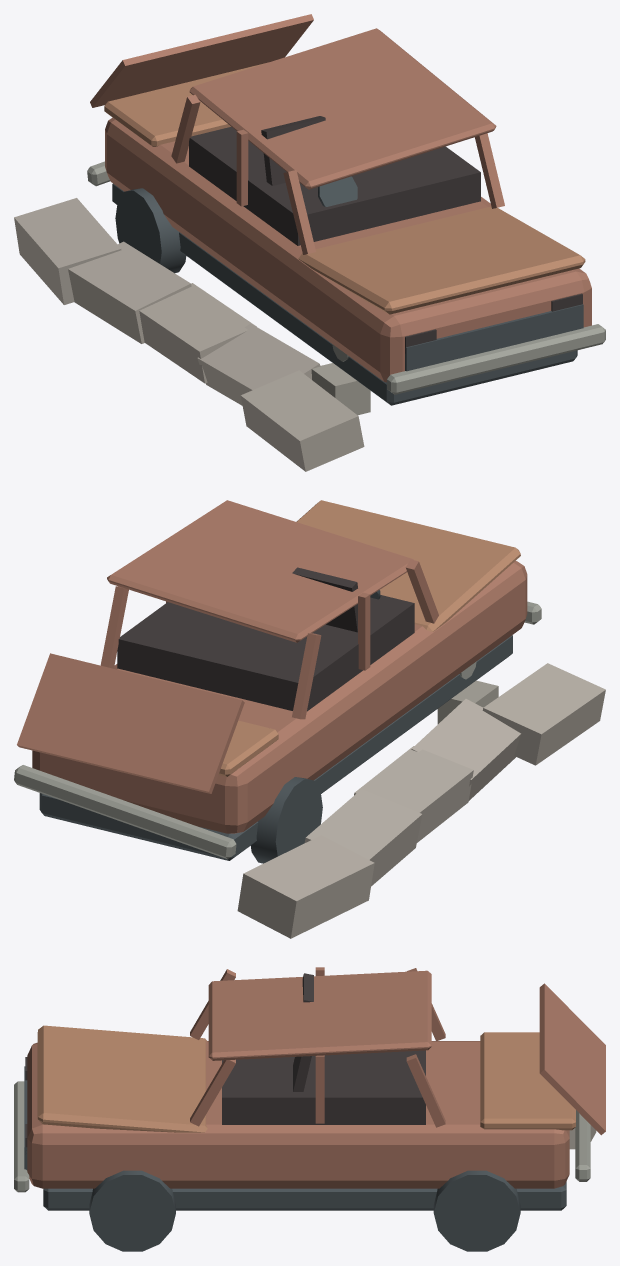
File: waste_car_wreck.glb
3 renders of one model, top to bottom at view 1: azimuth 30°, elevation 25°; view 2: azimuth 150°, elevation 25°; view 3: azimuth 270°, elevation 25°, orthographic. The views are drawn at different scales.
Visible parts, largest first — view 1: carpaint, carpaint.008, rust, char, ash.004, carpaint.001, ash.001, blacksteel, ash, ash.002, ash.003, duststeel (+10 smaller); view 2: carpaint, carpaint.008, carpaint.001, char, rust, ash, ash.004, blacksteel, ash.001, ash.002, ash.003, duststeel.001 (+8 smaller); view 3: carpaint, carpaint.008, rust, char, blacksteel, rust.001, carpaint.001, blacksteel.005, blacksteel.003, duststeel, duststeel.001, carpaint.006 (+4 smaller).
Part boxes in pixels (x1,y1,x2,y2): carpaint: (105,117,591,382); carpaint.008: (189,28,496,189); rust: (298,206,585,314); char: (189,126,480,245); ash.004: (240,370,364,471); carpaint.001: (90,14,313,107); ash.001: (68,241,191,343); blacksteel: (112,183,577,405); ash: (14,198,121,304); ash.002: (139,283,256,383); ash.003: (197,323,320,405); duststeel: (387,324,605,394); carpaint: (32,561,527,833); carpaint.008: (107,500,414,642); carpaint.001: (17,653,244,793); char: (117,595,414,711); rust: (296,500,520,631); ash: (237,835,374,938); ash.004: (482,663,605,765); blacksteel: (39,635,512,860); ash.001: (304,789,422,886); ash.002: (354,746,473,842); ash.003: (411,699,520,800); duststeel.001: (14,765,236,859); carpaint: (27,1041,569,1188); carpaint.008: (208,970,431,1060); rust: (37,1025,207,1132); char: (222,1050,425,1124); blacksteel: (43,1181,566,1210); rust.001: (480,1032,575,1130); carpaint.001: (539,983,605,1135); blacksteel.005: (433,1170,520,1251); blacksteel.003: (89,1170,175,1251); duststeel: (14,1081,29,1192); duststeel.001: (575,1110,590,1181); carpaint.006: (406,1054,445,1127).
Bounding box in the file's own units: 2.59 × 1.86 × 4.64.
